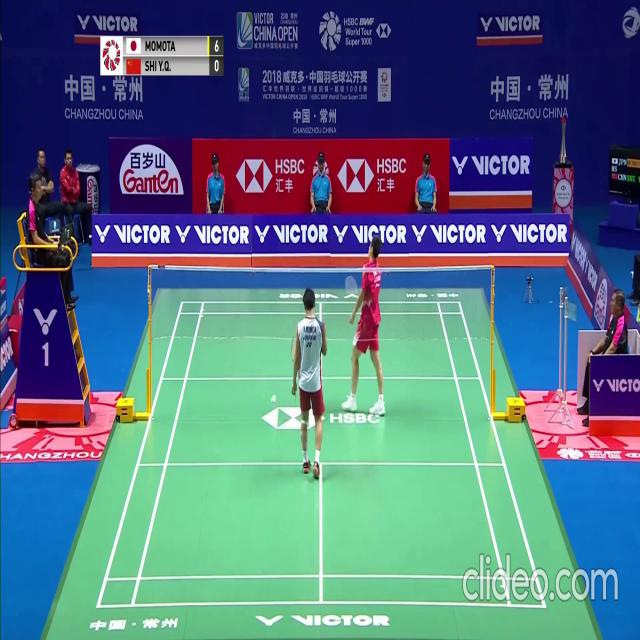Shuttlecock: (270, 396, 275, 404)
